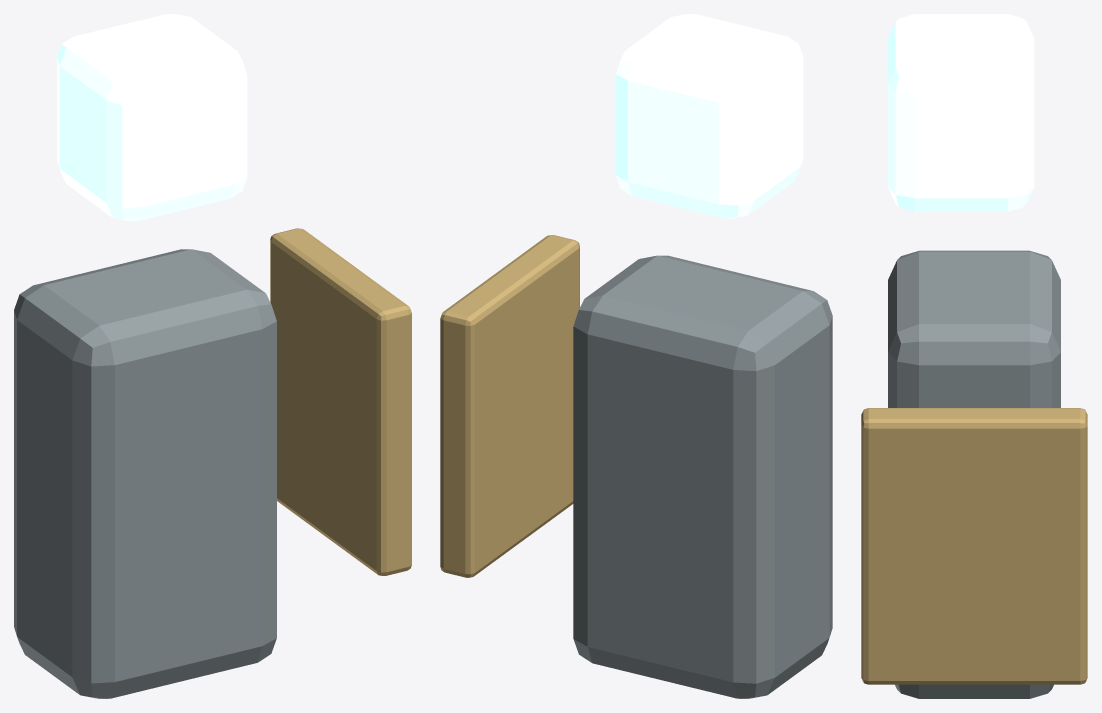
The model's file is enemy_oathbound_placeholder_v1.glb.
The picture shows the model from 3 angles, left to right: view 1: azimuth 30°, elevation 25°; view 2: azimuth 150°, elevation 25°; view 3: azimuth 270°, elevation 25°; orthographic projection.
Visible parts, largest first — view 1: Body, Shield, Head; view 2: Body, Shield, Head; view 3: Shield, Body, Head.
Part boxes in pixels (left/top/right/bottom): Body: left=14, top=249, right=276, bottom=698; Shield: left=270, top=228, right=411, bottom=575; Head: left=57, top=14, right=247, bottom=221; Body: left=573, top=255, right=832, bottom=698; Shield: left=440, top=235, right=579, bottom=577; Head: left=616, top=14, right=803, bottom=218; Shield: left=861, top=408, right=1087, bottom=684; Body: left=888, top=250, right=1060, bottom=698; Head: left=888, top=14, right=1034, bottom=211.
Bounding box in the file's own units: 0.545 × 1.03 × 0.34.
